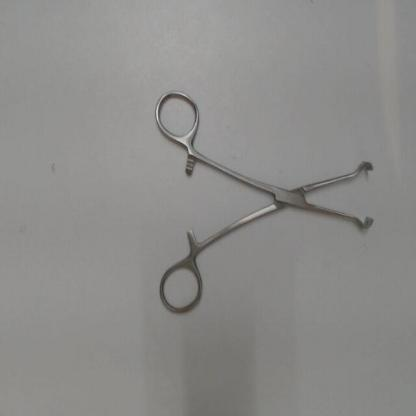Babcock Tissue Forceps: (149, 85, 378, 324)
